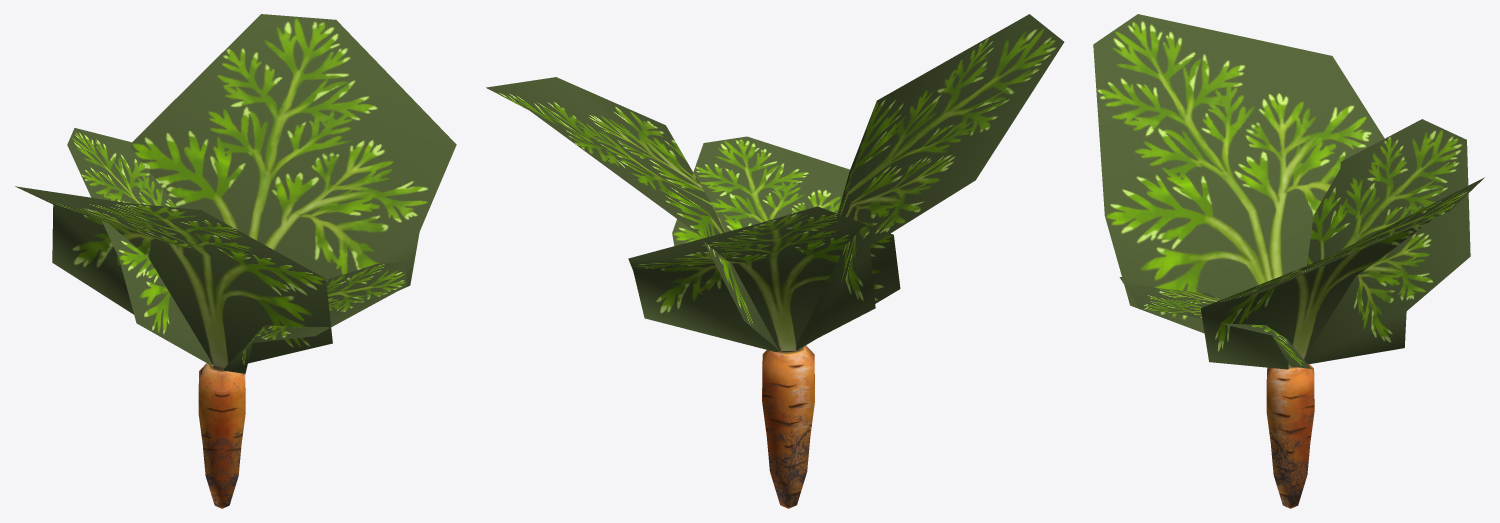
Rendered from plant_carrot_S3.fbx.
The picture shows the model from 3 angles, left to right: view 1: azimuth 30°, elevation 25°; view 2: azimuth 150°, elevation 25°; view 3: azimuth 270°, elevation 25°; orthographic projection. The views are drawn at different scales.
Parts seen in each view (by area): view 1: plant_carrot_S3; view 2: plant_carrot_S3; view 3: plant_carrot_S3.
Part boxes in pixels (left/top/right/bottom): plant_carrot_S3: left=15, top=14, right=456, bottom=508; plant_carrot_S3: left=486, top=14, right=1064, bottom=508; plant_carrot_S3: left=1093, top=14, right=1484, bottom=508.
Bounding box in the file's own units: 67.09 × 63.27 × 54.88.
